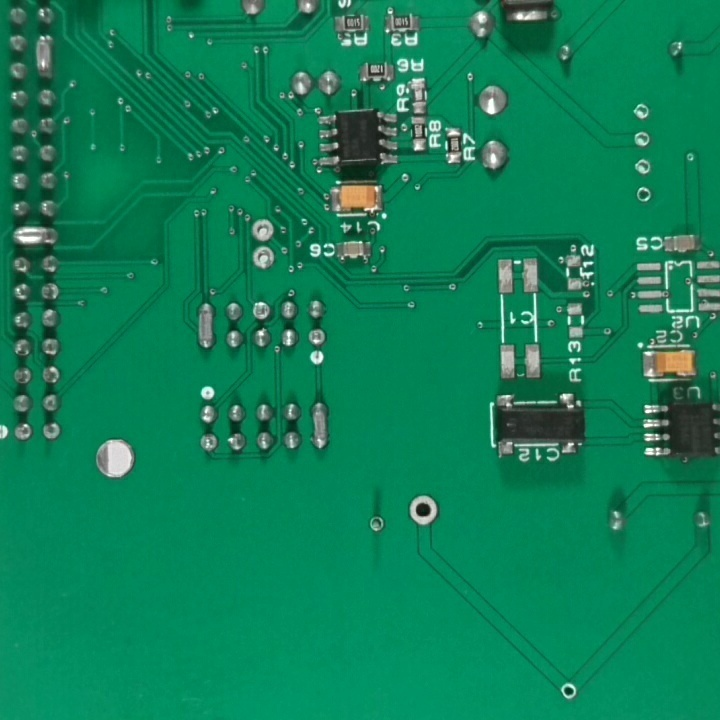F: (403, 492, 441, 530), (250, 243, 279, 272), (248, 300, 276, 324), (250, 216, 274, 244), (630, 98, 653, 125), (11, 420, 38, 443), (631, 155, 655, 180), (631, 182, 655, 207), (196, 431, 221, 455), (38, 280, 61, 306), (305, 325, 326, 351), (558, 682, 581, 705), (631, 128, 653, 152), (10, 366, 34, 388), (365, 514, 386, 536)
P: (308, 395, 333, 456), (33, 29, 59, 86), (195, 295, 219, 353), (7, 224, 64, 248)
